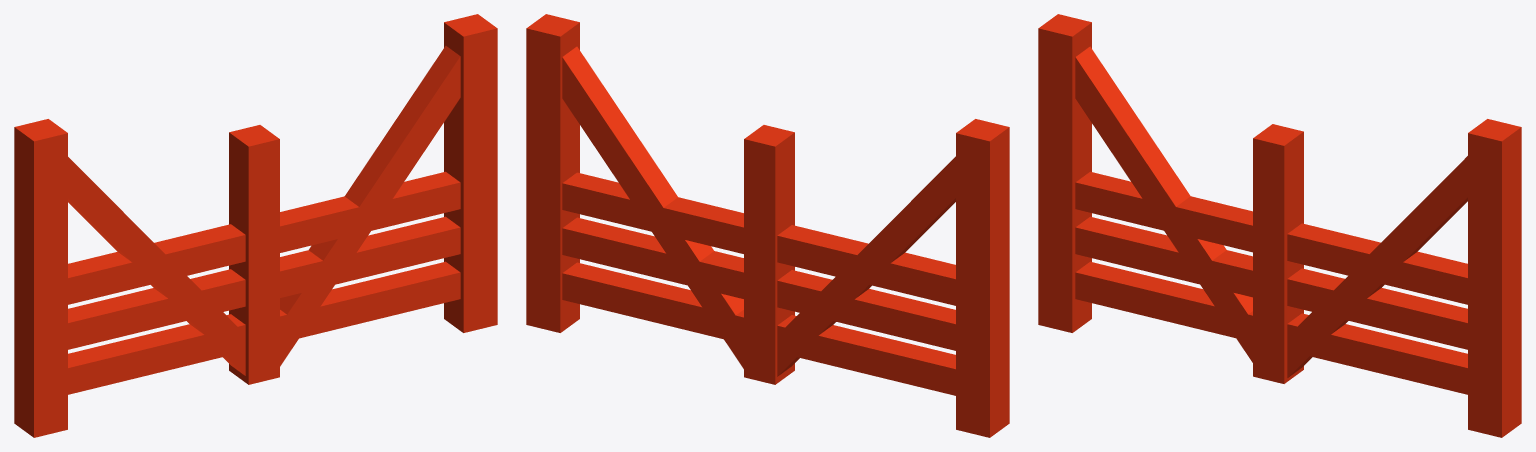
Rendered from V_plank_fences_1.FBX.
The picture shows the model from 3 angles, left to right: view 1: azimuth 30°, elevation 25°; view 2: azimuth 150°, elevation 25°; view 3: azimuth 330°, elevation 25°; orthographic projection.
Parts seen in each view (by area): view 1: V_plank_fences_1; view 2: V_plank_fences_1; view 3: V_plank_fences_1.
Part boxes in pixels (left/top/right/bottom): V_plank_fences_1: left=14, top=14, right=497, bottom=437; V_plank_fences_1: left=526, top=14, right=1009, bottom=437; V_plank_fences_1: left=1038, top=14, right=1521, bottom=437.
Size of the model in its own units: 1.47 by 0.9 by 0.108.
1 material, 1 textured.
